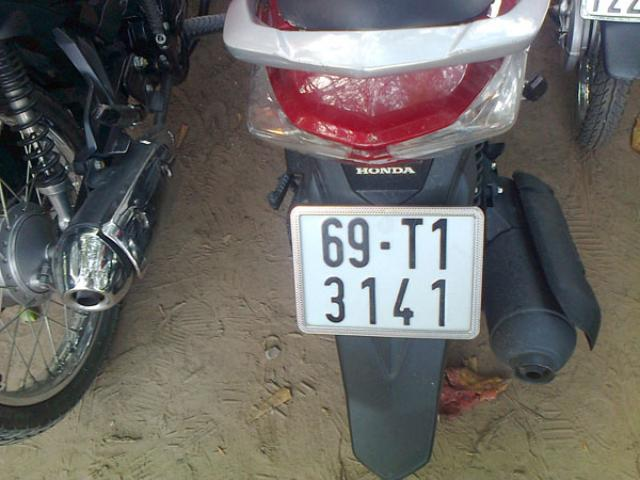plate: (295, 212, 483, 334)
